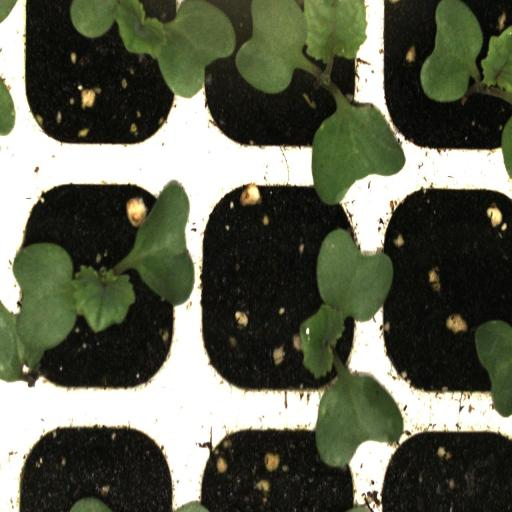Folha: (300, 227, 404, 469), (312, 93, 405, 206), (475, 320, 512, 417)
Germinacao: (10, 167, 190, 414), (193, 168, 371, 412), (9, 0, 190, 168), (192, 0, 371, 168), (371, 0, 512, 172)
